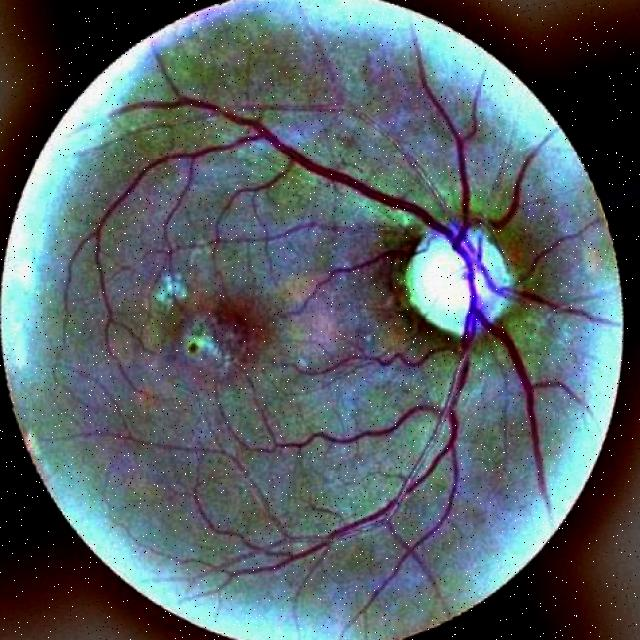Macula: (203, 304, 263, 371)
Nerves: (89, 60, 480, 340), (226, 281, 477, 582)
Optic Disk: (401, 216, 519, 339)
